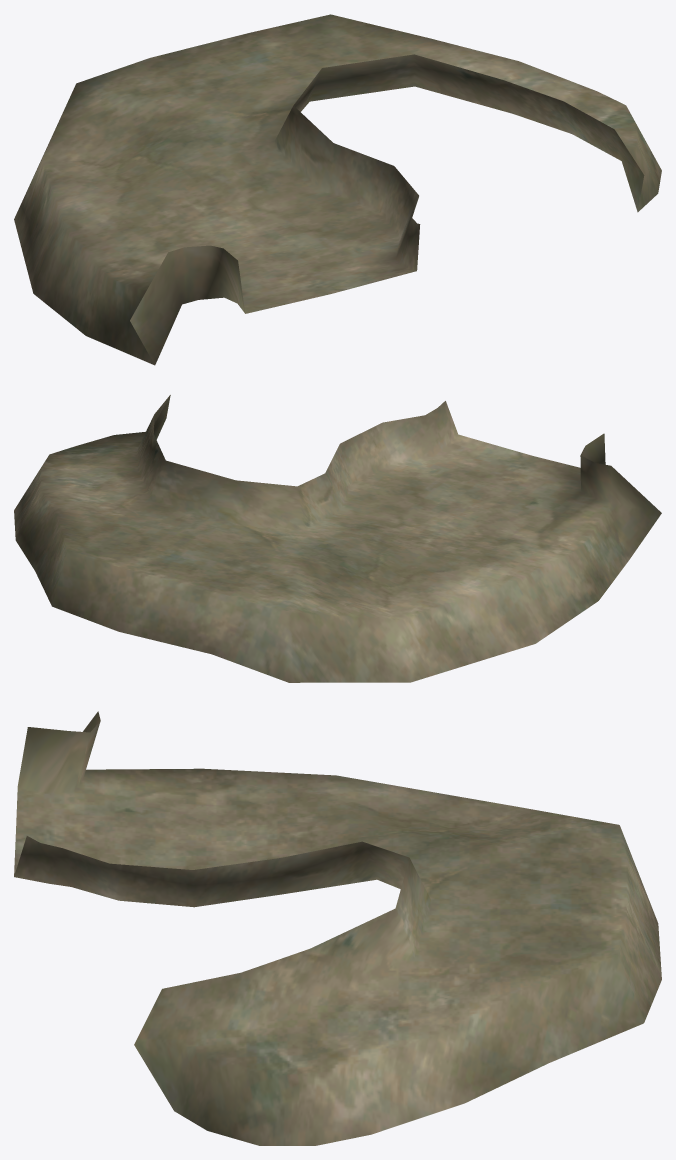
File: EKH_GROTTO_PS_GR_OBJECT17.fbx
3 views of the same model, one above another, from view 1: azimuth 30°, elevation 25°; view 2: azimuth 150°, elevation 25°; view 3: azimuth 270°, elevation 25° (orthographic). The views are drawn at different scales.
Parts seen in each view (by area): view 1: EKH_GROTTO_PS_GR_OBJECT17; view 2: EKH_GROTTO_PS_GR_OBJECT17; view 3: EKH_GROTTO_PS_GR_OBJECT17.
Boxes of the visible parts, bbox=[...] form: EKH_GROTTO_PS_GR_OBJECT17: bbox=[14, 14, 661, 365]; EKH_GROTTO_PS_GR_OBJECT17: bbox=[14, 395, 661, 682]; EKH_GROTTO_PS_GR_OBJECT17: bbox=[14, 711, 661, 1145].
Size of the model in its own units: 73584 by 14619 by 58617.
Materials: 1 (1 with a texture image).
